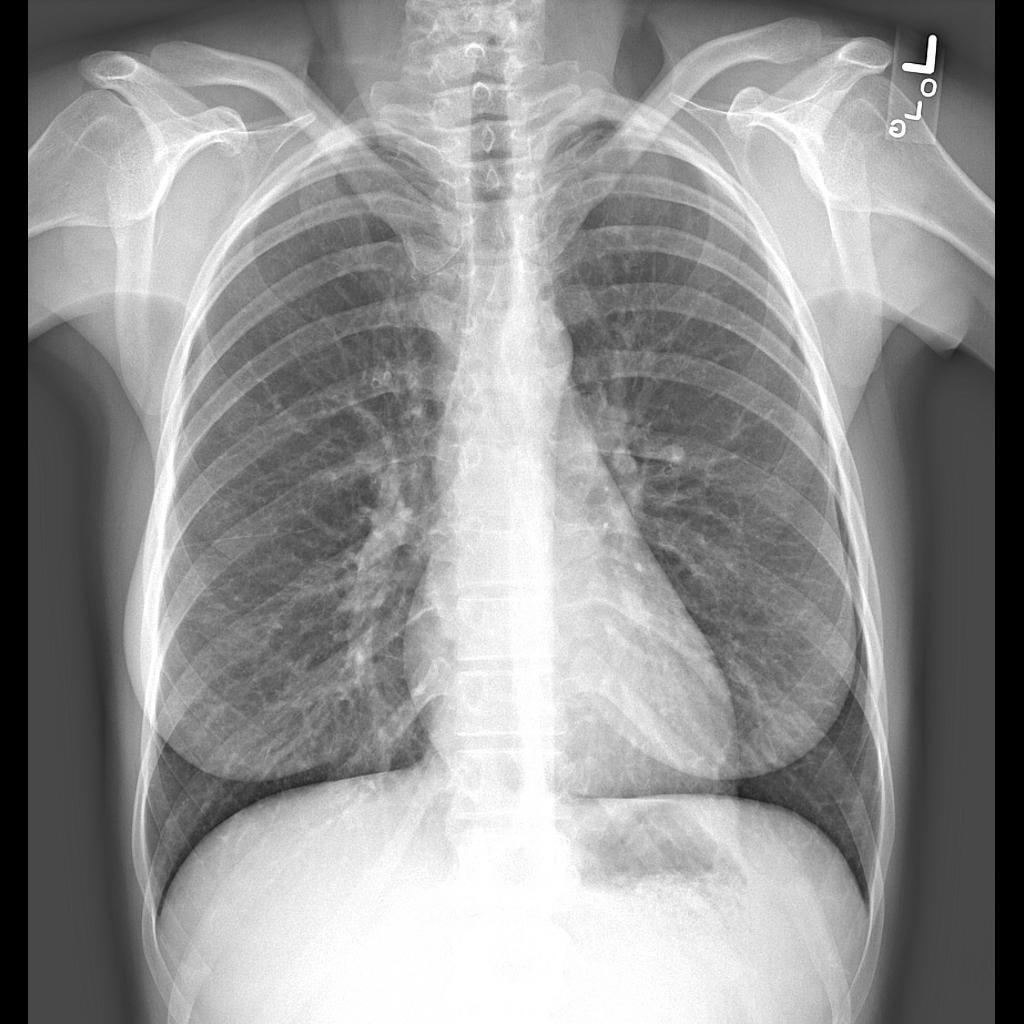Nodule: (609, 443, 641, 492)
